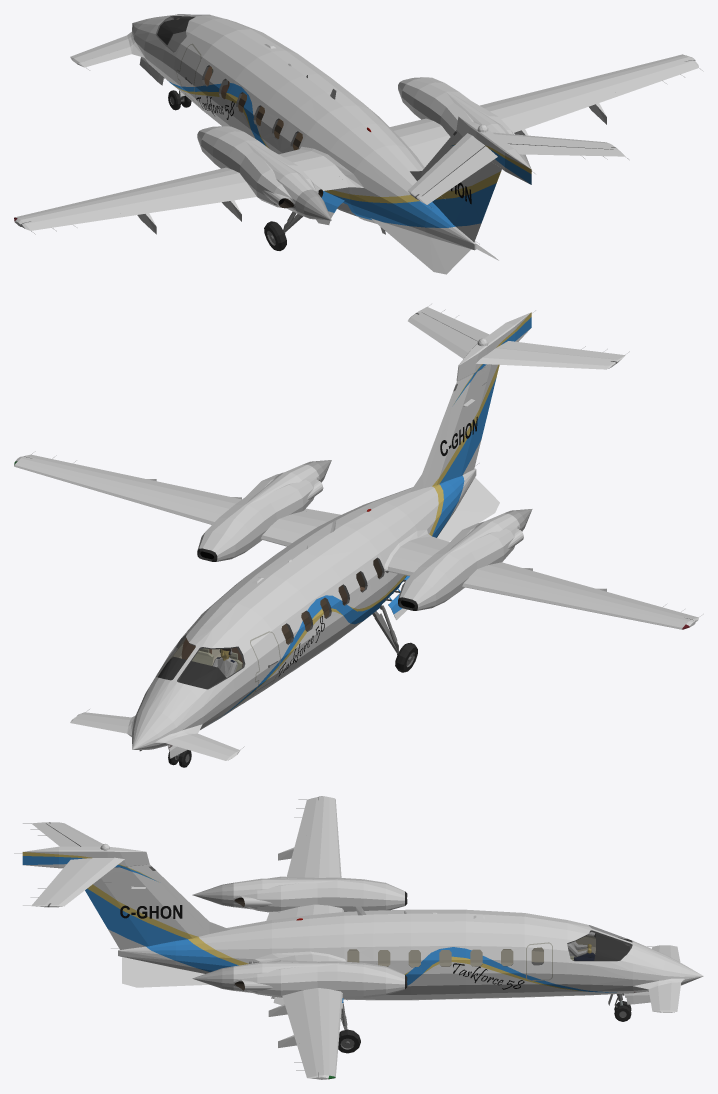
The model's file is Avanti.obj.
3 views of the same model, one above another, from view 1: azimuth 30°, elevation 25°; view 2: azimuth 150°, elevation 25°; view 3: azimuth 270°, elevation 25° (orthographic). The views are drawn at different scales.
Visible parts, largest first — view 1: ShapeIndexedFaceSet_ShapeIndexedFaceSet.001, ShapeIndexedFaceSet.001_ShapeIndexedFaceSet.002, ShapeIndexedFaceSet.147_ShapeIndexedFaceSet.148, ShapeIndexedFaceSet.002_ShapeIndexedFaceSet.003, ShapeIndexedFaceSet.031_ShapeIndexedFaceSet.032, ShapeIndexedFaceSet.036_ShapeIndexedFaceSet.037, ShapeIndexedFaceSet.024_ShapeIndexedFaceSet.025, ShapeIndexedFaceSet.007_ShapeIndexedFaceSet.008, ShapeIndexedFaceSet.013_ShapeIndexedFaceSet.014, ShapeIndexedFaceSet.018_ShapeIndexedFaceSet.019, ShapeIndexedFaceSet.115_ShapeIndexedFaceSet.116, ShapeIndexedFaceSet.023_ShapeIndexedFaceSet.024 (+3 smaller); view 2: ShapeIndexedFaceSet_ShapeIndexedFaceSet.001, ShapeIndexedFaceSet.147_ShapeIndexedFaceSet.148, ShapeIndexedFaceSet.001_ShapeIndexedFaceSet.002, ShapeIndexedFaceSet.002_ShapeIndexedFaceSet.003, ShapeIndexedFaceSet.113_ShapeIndexedFaceSet.114, ShapeIndexedFaceSet.031_ShapeIndexedFaceSet.032, ShapeIndexedFaceSet.115_ShapeIndexedFaceSet.116; view 3: ShapeIndexedFaceSet_ShapeIndexedFaceSet.001, ShapeIndexedFaceSet.001_ShapeIndexedFaceSet.002, ShapeIndexedFaceSet.147_ShapeIndexedFaceSet.148, ShapeIndexedFaceSet.116_ShapeIndexedFaceSet.117, ShapeIndexedFaceSet.002_ShapeIndexedFaceSet.003, ShapeIndexedFaceSet.007_ShapeIndexedFaceSet.008, ShapeIndexedFaceSet.024_ShapeIndexedFaceSet.025, ShapeIndexedFaceSet.036_ShapeIndexedFaceSet.037, ShapeIndexedFaceSet.113_ShapeIndexedFaceSet.114, ShapeIndexedFaceSet.023_ShapeIndexedFaceSet.024, ShapeIndexedFaceSet.031_ShapeIndexedFaceSet.032.
Boxes of the visible parts, x1=… form: ShapeIndexedFaceSet_ShapeIndexedFaceSet.001: x1=15, y1=14, x2=694, y2=274; ShapeIndexedFaceSet.001_ShapeIndexedFaceSet.002: x1=167, y1=80, x2=531, y2=227; ShapeIndexedFaceSet.147_ShapeIndexedFaceSet.148: x1=156, y1=14, x2=302, y2=150; ShapeIndexedFaceSet.002_ShapeIndexedFaceSet.003: x1=172, y1=84, x2=531, y2=203; ShapeIndexedFaceSet.031_ShapeIndexedFaceSet.032: x1=416, y1=146, x2=497, y2=204; ShapeIndexedFaceSet.036_ShapeIndexedFaceSet.037: x1=508, y1=144, x2=625, y2=156; ShapeIndexedFaceSet.024_ShapeIndexedFaceSet.025: x1=454, y1=183, x2=496, y2=226; ShapeIndexedFaceSet.007_ShapeIndexedFaceSet.008: x1=295, y1=154, x2=531, y2=220; ShapeIndexedFaceSet.013_ShapeIndexedFaceSet.014: x1=21, y1=209, x2=122, y2=230; ShapeIndexedFaceSet.018_ShapeIndexedFaceSet.019: x1=612, y1=60, x2=698, y2=95; ShapeIndexedFaceSet.115_ShapeIndexedFaceSet.116: x1=155, y1=14, x2=298, y2=150; ShapeIndexedFaceSet.023_ShapeIndexedFaceSet.024: x1=457, y1=161, x2=501, y2=241; ShapeIndexedFaceSet_ShapeIndexedFaceSet.001: x1=14, y1=312, x2=695, y2=760; ShapeIndexedFaceSet.147_ShapeIndexedFaceSet.148: x1=156, y1=558, x2=384, y2=689; ShapeIndexedFaceSet.001_ShapeIndexedFaceSet.002: x1=220, y1=317, x2=531, y2=717; ShapeIndexedFaceSet.002_ShapeIndexedFaceSet.003: x1=232, y1=312, x2=531, y2=709; ShapeIndexedFaceSet.113_ShapeIndexedFaceSet.114: x1=158, y1=656, x2=226, y2=689; ShapeIndexedFaceSet.031_ShapeIndexedFaceSet.032: x1=496, y1=341, x2=625, y2=362; ShapeIndexedFaceSet.115_ShapeIndexedFaceSet.116: x1=156, y1=557, x2=384, y2=689; ShapeIndexedFaceSet_ShapeIndexedFaceSet.001: x1=23, y1=796, x2=703, y2=1079; ShapeIndexedFaceSet.001_ShapeIndexedFaceSet.002: x1=22, y1=856, x2=616, y2=992; ShapeIndexedFaceSet.147_ShapeIndexedFaceSet.148: x1=347, y1=925, x2=632, y2=966; ShapeIndexedFaceSet.116_ShapeIndexedFaceSet.117: x1=347, y1=935, x2=595, y2=966; ShapeIndexedFaceSet.002_ShapeIndexedFaceSet.003: x1=22, y1=852, x2=588, y2=991; ShapeIndexedFaceSet.007_ShapeIndexedFaceSet.008: x1=192, y1=882, x2=233, y2=990; ShapeIndexedFaceSet.024_ShapeIndexedFaceSet.025: x1=85, y1=888, x2=146, y2=945; ShapeIndexedFaceSet.036_ShapeIndexedFaceSet.037: x1=31, y1=858, x2=91, y2=907; ShapeIndexedFaceSet.113_ShapeIndexedFaceSet.114: x1=594, y1=933, x2=629, y2=960; ShapeIndexedFaceSet.023_ShapeIndexedFaceSet.024: x1=93, y1=874, x2=142, y2=949; ShapeIndexedFaceSet.031_ShapeIndexedFaceSet.032: x1=32, y1=822, x2=79, y2=846.
Bounding box in the file's own units: 141 × 42.47 × 146.
